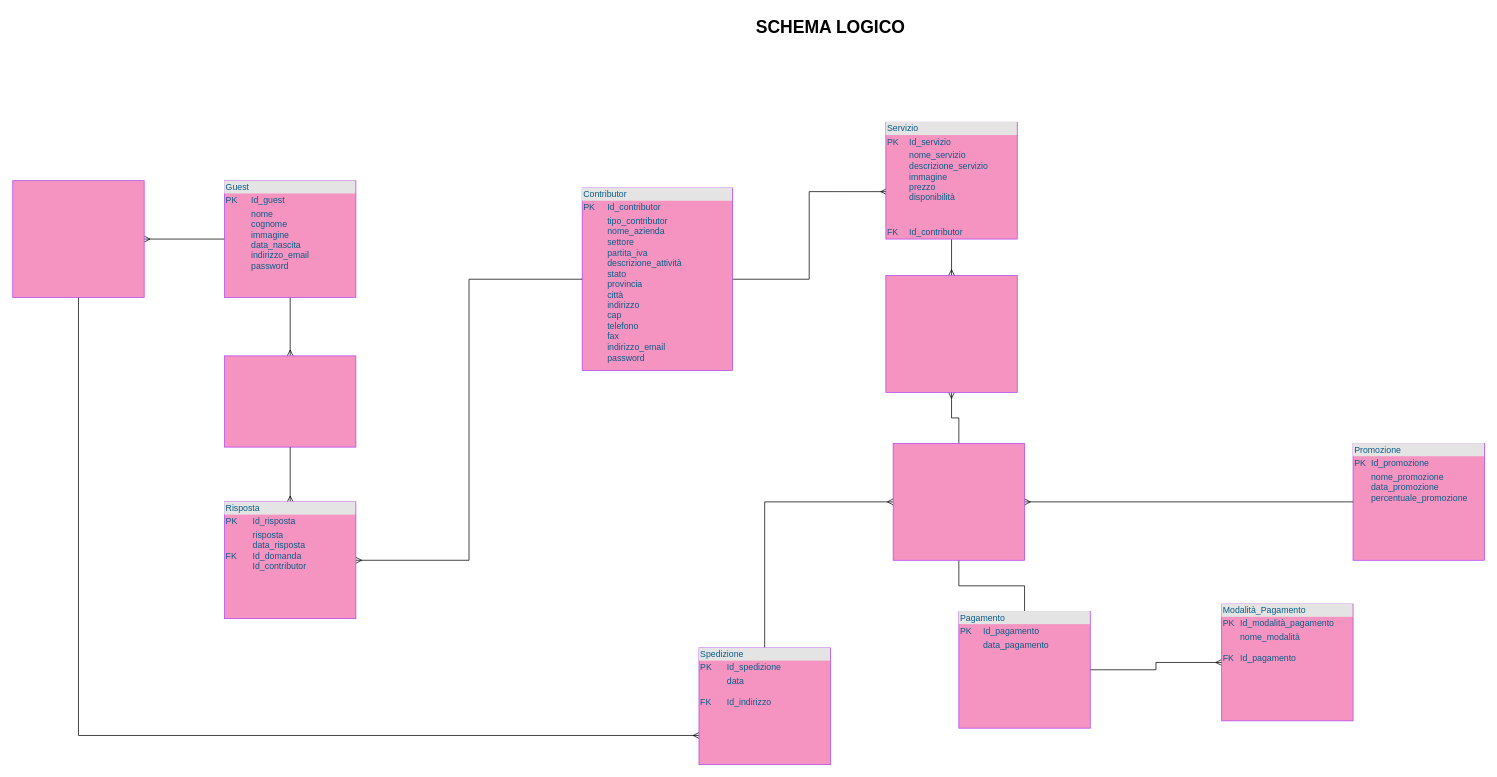
Image size: 1497x777. Some labels were removed from this diagram. Each missing label, with the centre of its shape:
Domanda PK Id_domanda FK domanda data_domanda Id_guest: the point at 290,401
Indirizzo PK Id_indirizzo FK indirizzo info_aggiuntive cap città Id_guest: the point at 78,238
Ordine PK Id_ordine quantità FK Id_promozione Id_spedizione: the point at 958,501
Servizio_Ordine PK Id_servizio_ordine FK data Id_ordine Id_servizio: the point at 951,333
